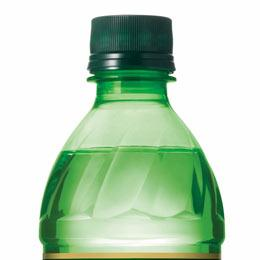soju: (37, 13, 228, 260)
